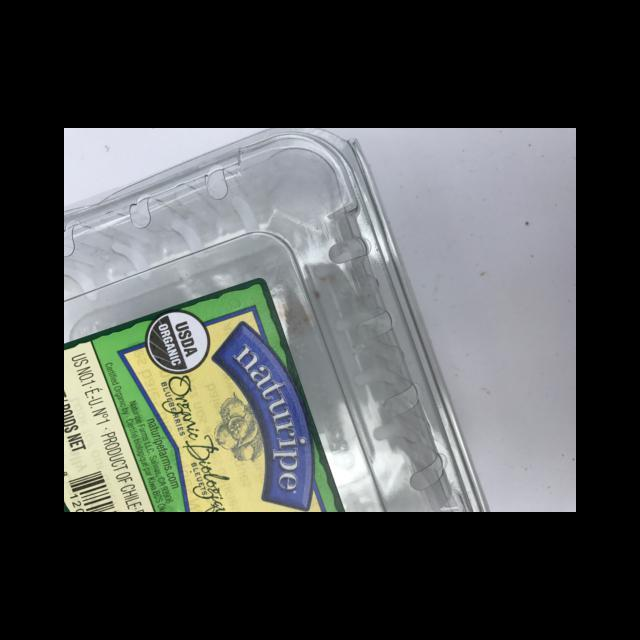plastic: (64, 128, 489, 511)
